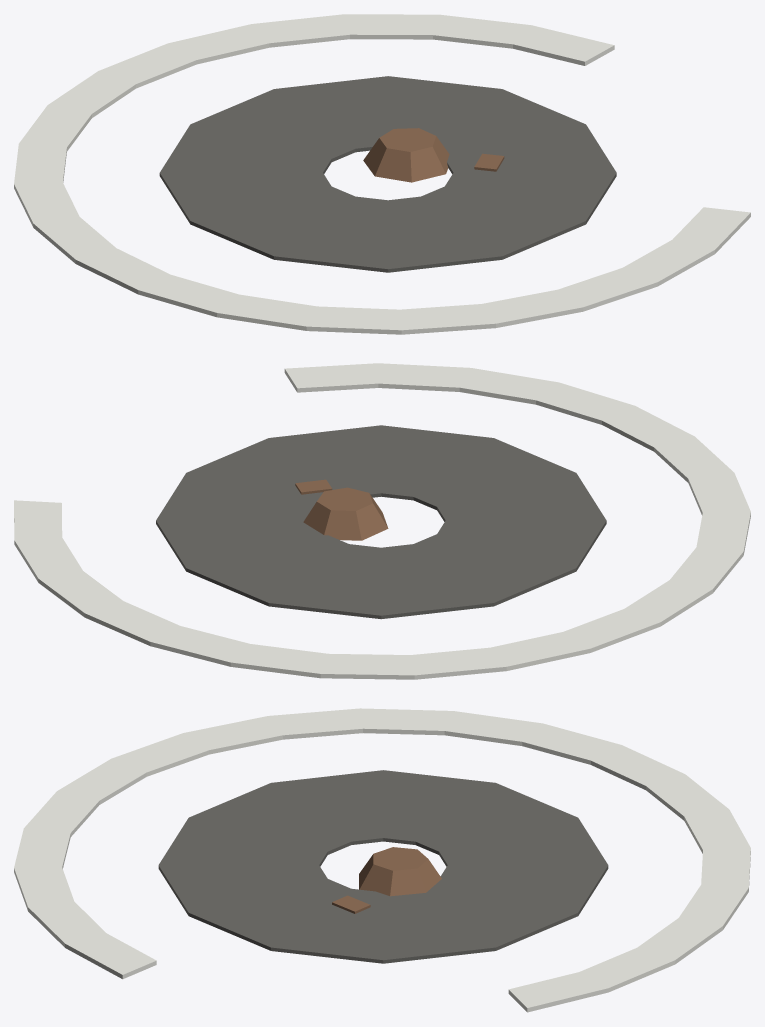
The model's file is br_x_salt_ring.glb.
3 views of the same model, one above another, from view 1: azimuth 30°, elevation 25°; view 2: azimuth 150°, elevation 25°; view 3: azimuth 270°, elevation 25° (orthographic).
Visible parts, largest first — view 1: br_x_salt_ring; view 2: br_x_salt_ring; view 3: br_x_salt_ring.
Part boxes in pixels (box(x1,y1,x2,y2)): br_x_salt_ring: box(14, 14, 750, 334); br_x_salt_ring: box(14, 363, 750, 679); br_x_salt_ring: box(14, 708, 750, 1012).
Bounding box in the file's own units: 2.21 × 0.08 × 2.29.
